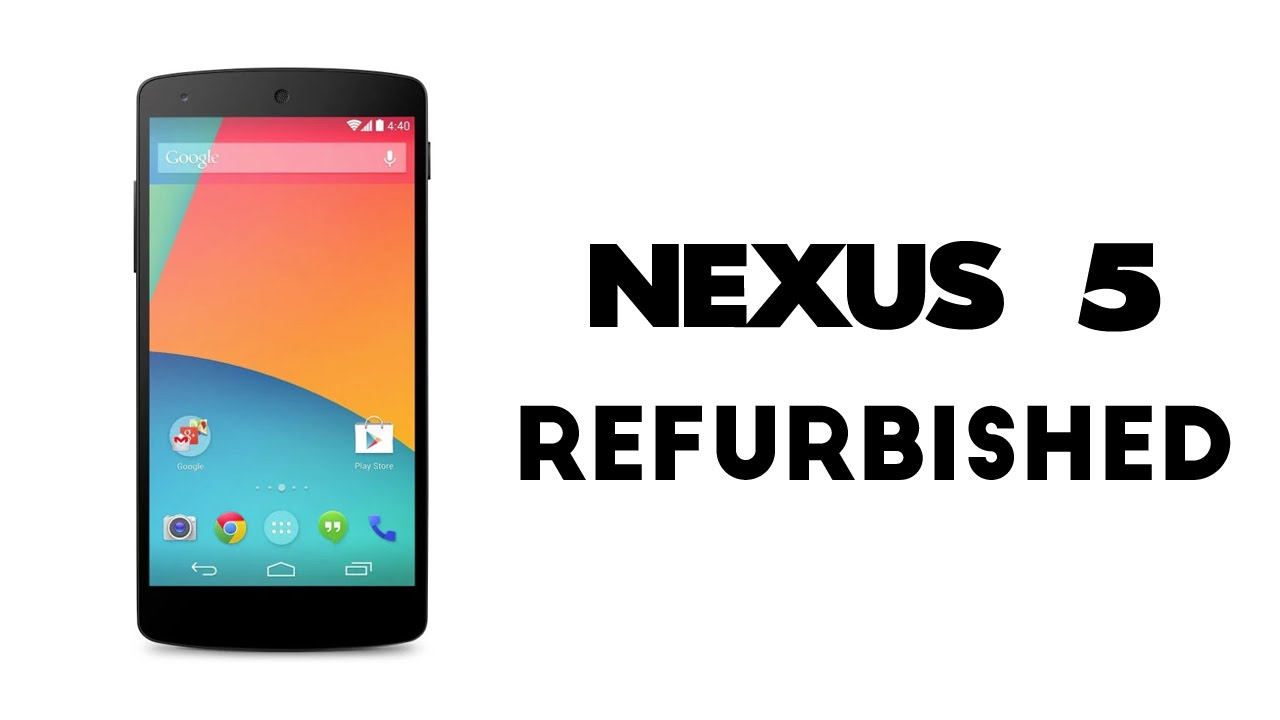smartphone: (132, 68, 431, 650)
